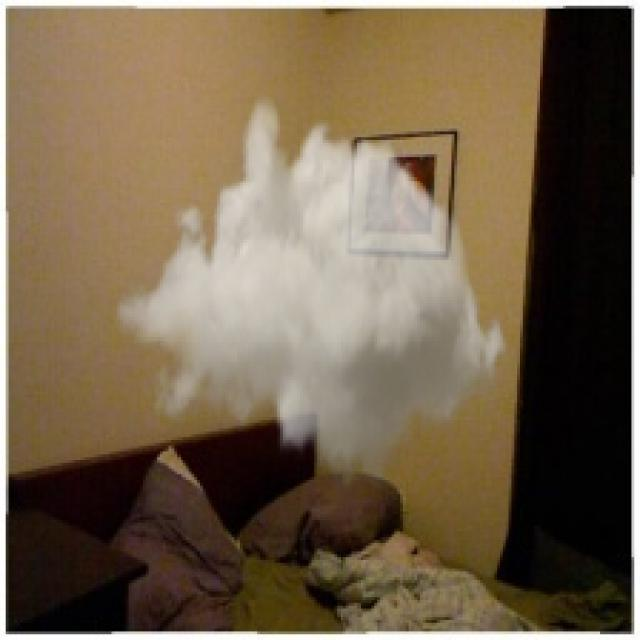Smoke: (114, 94, 512, 497)
